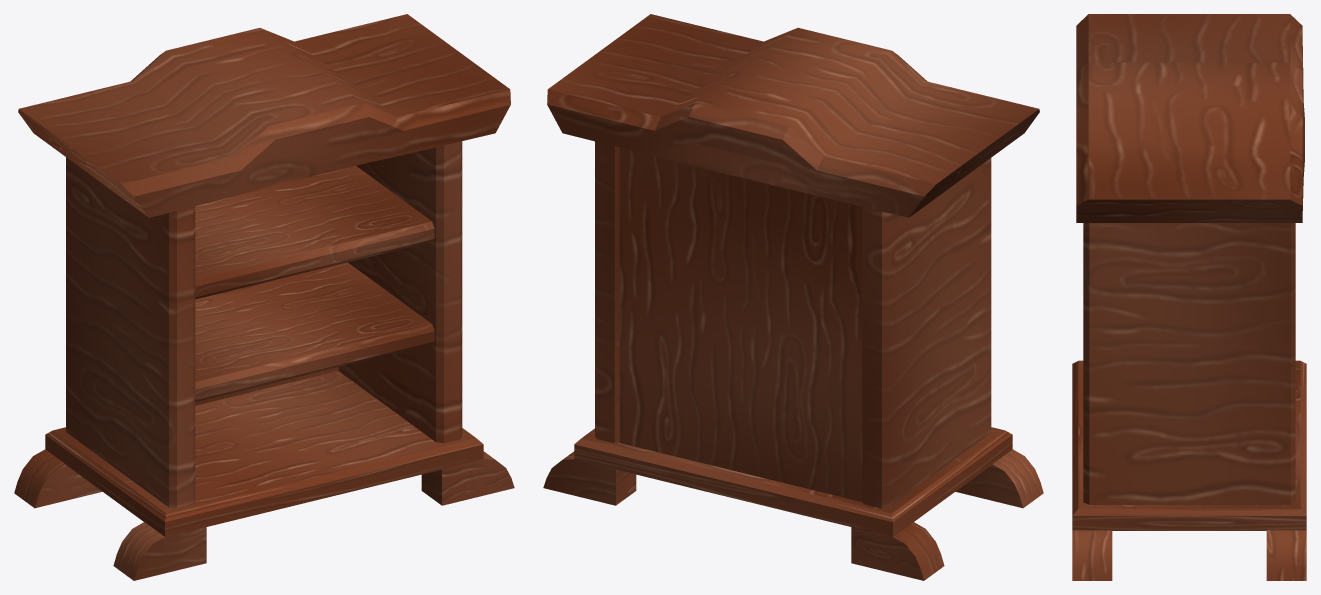
File: ShelfVar1.fbx
3 views of the same model, side by side, from view 1: azimuth 30°, elevation 25°; view 2: azimuth 150°, elevation 25°; view 3: azimuth 270°, elevation 25° (orthographic). The views are drawn at different scales.
Parts seen in each view (by area): view 1: ShelfVar1; view 2: ShelfVar1; view 3: ShelfVar1.
Part boxes in pixels (x1=…): ShelfVar1: x1=14, y1=14, x2=514, y2=580; ShelfVar1: x1=543, y1=14, x2=1043, y2=580; ShelfVar1: x1=1072, y1=14, x2=1306, y2=580.
Size of the model in its own units: 279 by 284 by 149.
